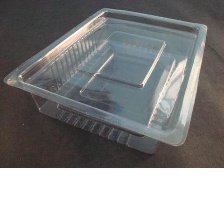plastic_box: (0, 3, 211, 160)
